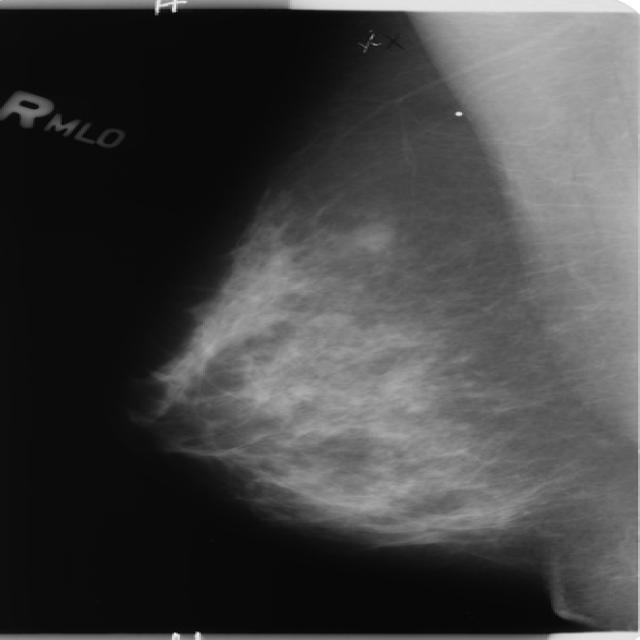tumour: (352, 220, 392, 248)
